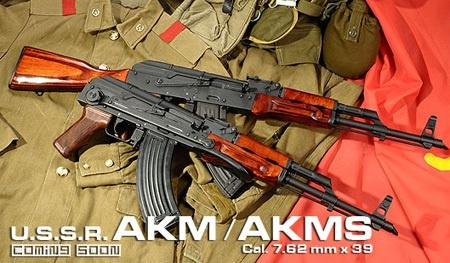gun: (9, 45, 442, 196), (54, 76, 399, 236)
